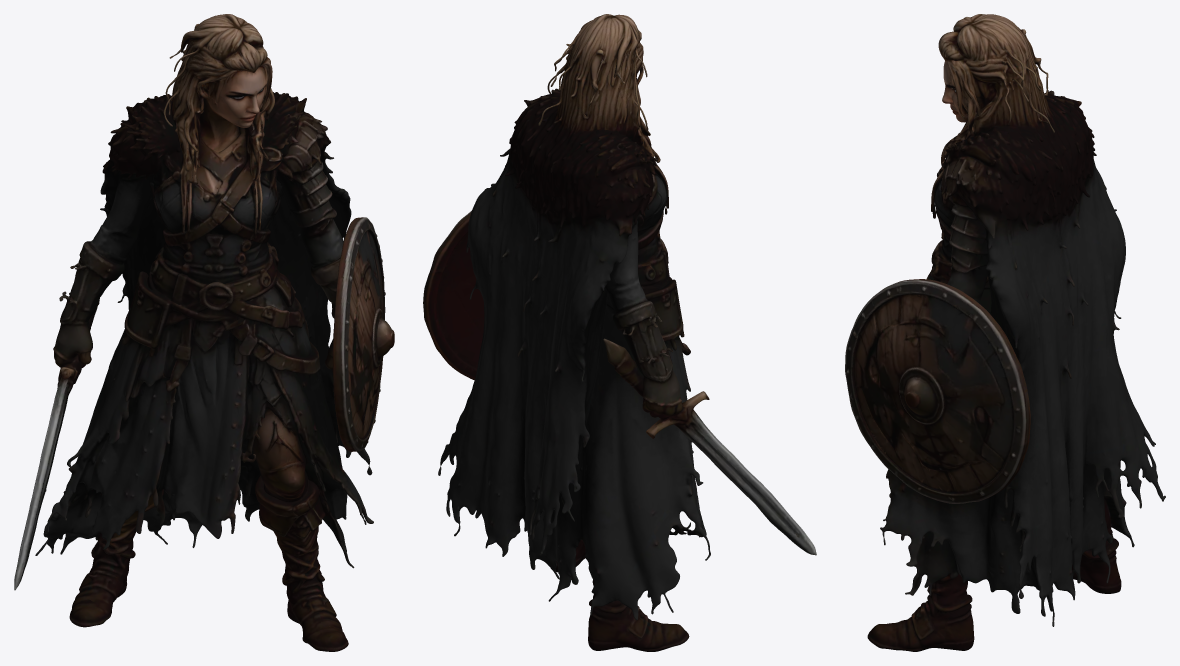
File: guard_captain.glb
3 renders of one model, left to right at view 1: azimuth 30°, elevation 25°; view 2: azimuth 150°, elevation 25°; view 3: azimuth 270°, elevation 25°, orthographic. The views are drawn at different scales.
Visible parts, largest first — view 1: tripo_node_f79eb966-4226-4d42-ad41-e0707e191c04; view 2: tripo_node_f79eb966-4226-4d42-ad41-e0707e191c04; view 3: tripo_node_f79eb966-4226-4d42-ad41-e0707e191c04.
Boxes of the visible parts, box(x1,y1,x2,y2) form: tripo_node_f79eb966-4226-4d42-ad41-e0707e191c04: box(14, 14, 394, 651); tripo_node_f79eb966-4226-4d42-ad41-e0707e191c04: box(423, 14, 816, 651); tripo_node_f79eb966-4226-4d42-ad41-e0707e191c04: box(845, 14, 1165, 651).
Bounding box in the file's own units: 0.6743 × 1 × 0.4827.
1 material, 1 textured.
